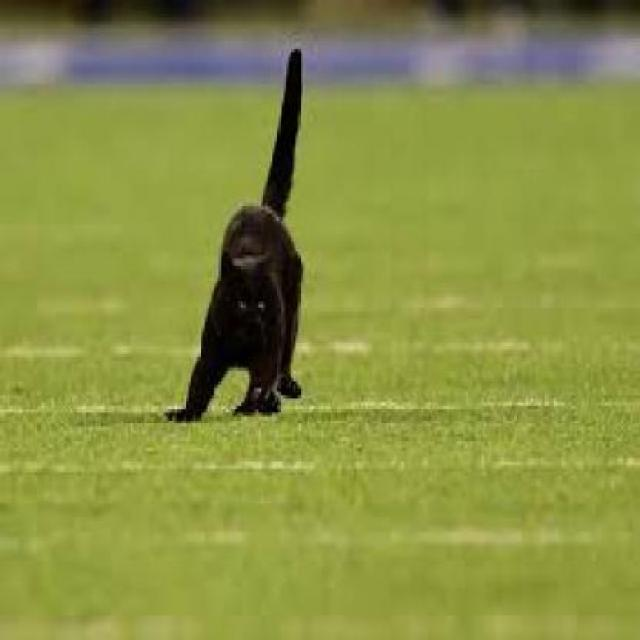animals: (156, 32, 319, 440)
